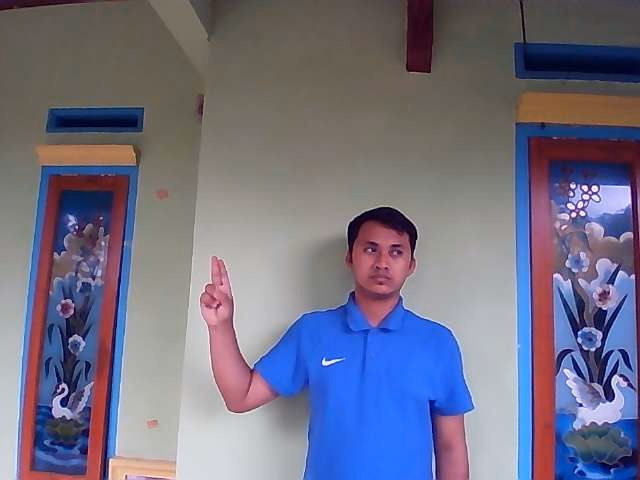U: (199, 255, 235, 324)
